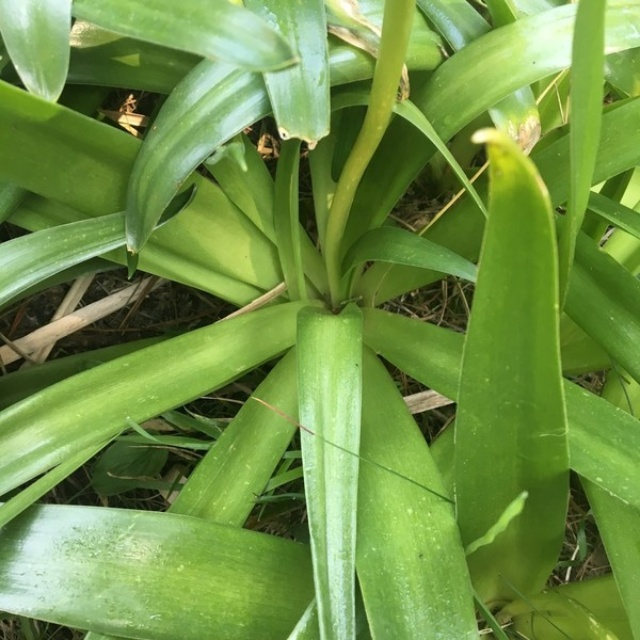obstacle: (34, 33, 604, 622)
